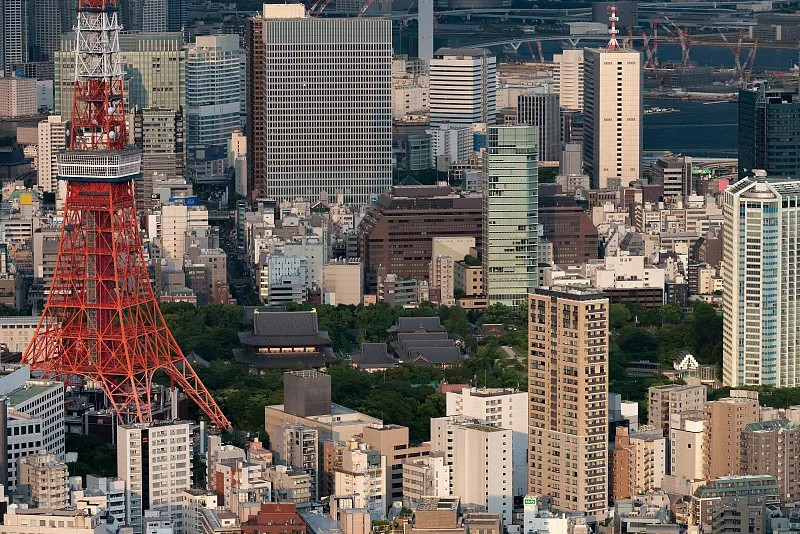Tokyo: (18, 1, 234, 433)
